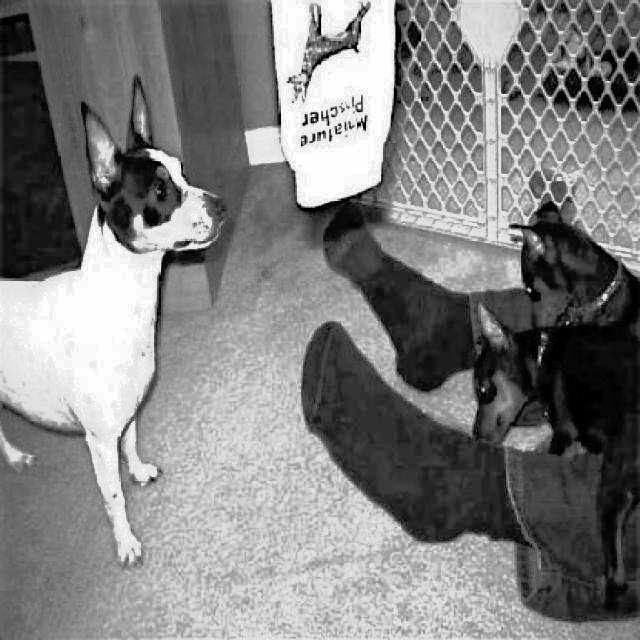Dog: (0, 68, 235, 574), (460, 299, 640, 468), (507, 195, 640, 336)
